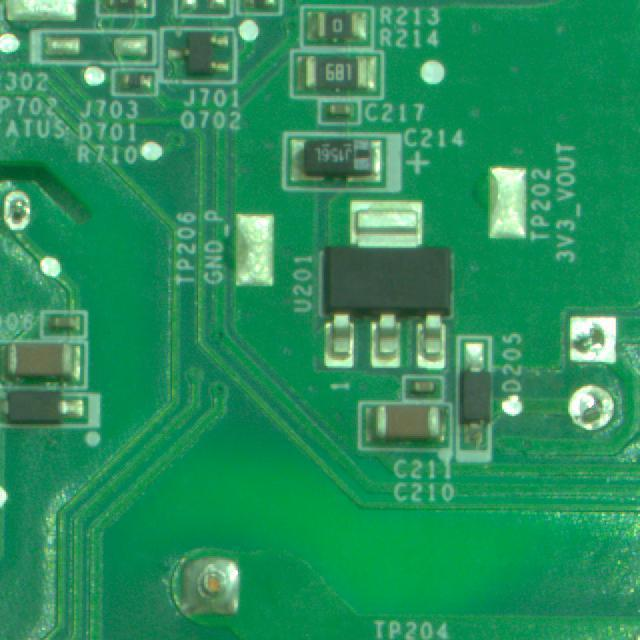Insufficient solder: (552, 302, 630, 373), (563, 382, 619, 434), (0, 188, 48, 231)
